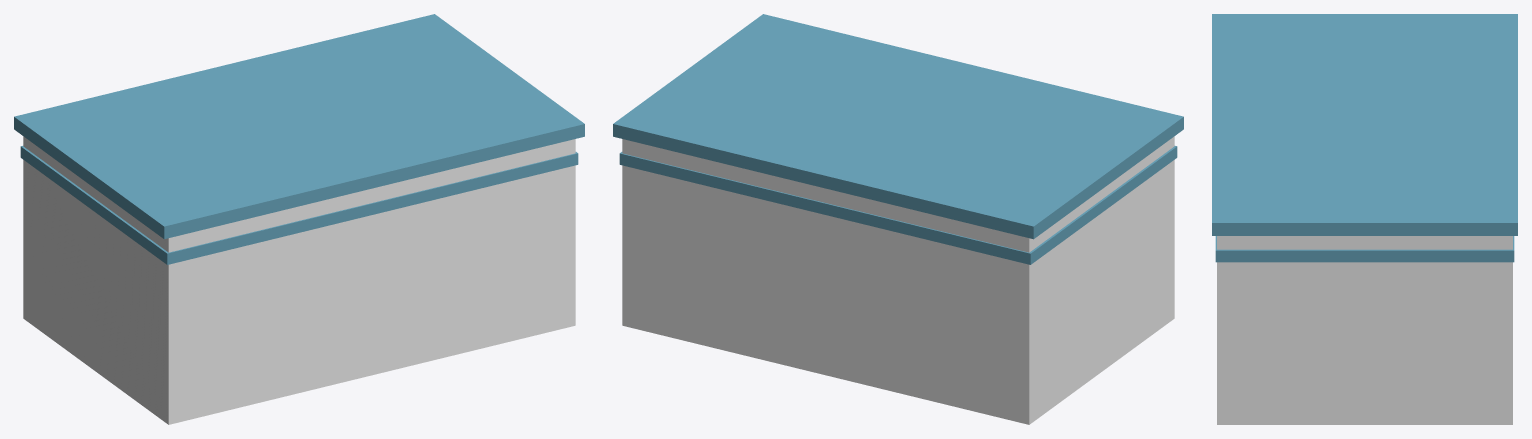
Rendered from KitchenIsland.fbx.
3 renders of one model, left to right at view 1: azimuth 30°, elevation 25°; view 2: azimuth 150°, elevation 25°; view 3: azimuth 270°, elevation 25°, orthographic.
Parts seen in each view (by area): view 1: Cube.010; view 2: Cube.010; view 3: Cube.010.
Part boxes in pixels (x1,y1,x2,y2): Cube.010: (14, 14, 584, 424); Cube.010: (613, 14, 1183, 424); Cube.010: (1212, 14, 1517, 424).
Size of the model in its own units: 1466 by 672 by 906.
